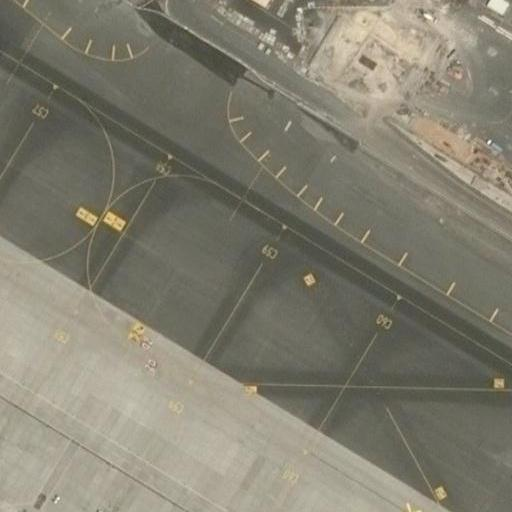Aircraft: (61, 502, 121, 512)
